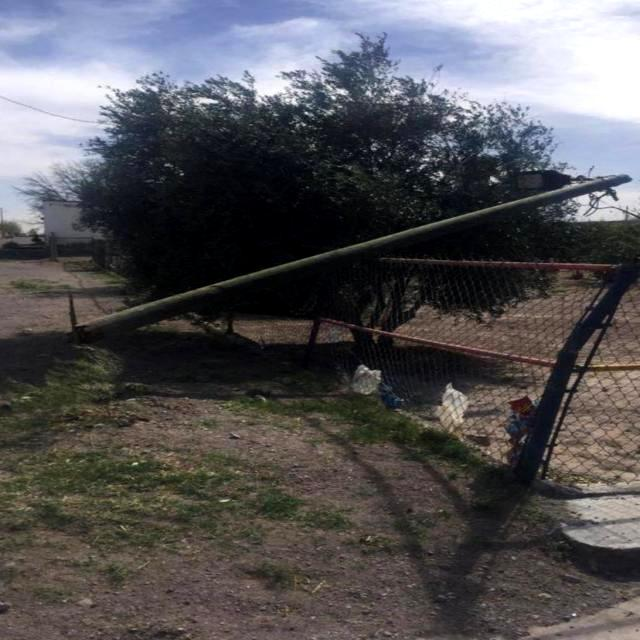Broken Pole: (67, 171, 633, 345)
